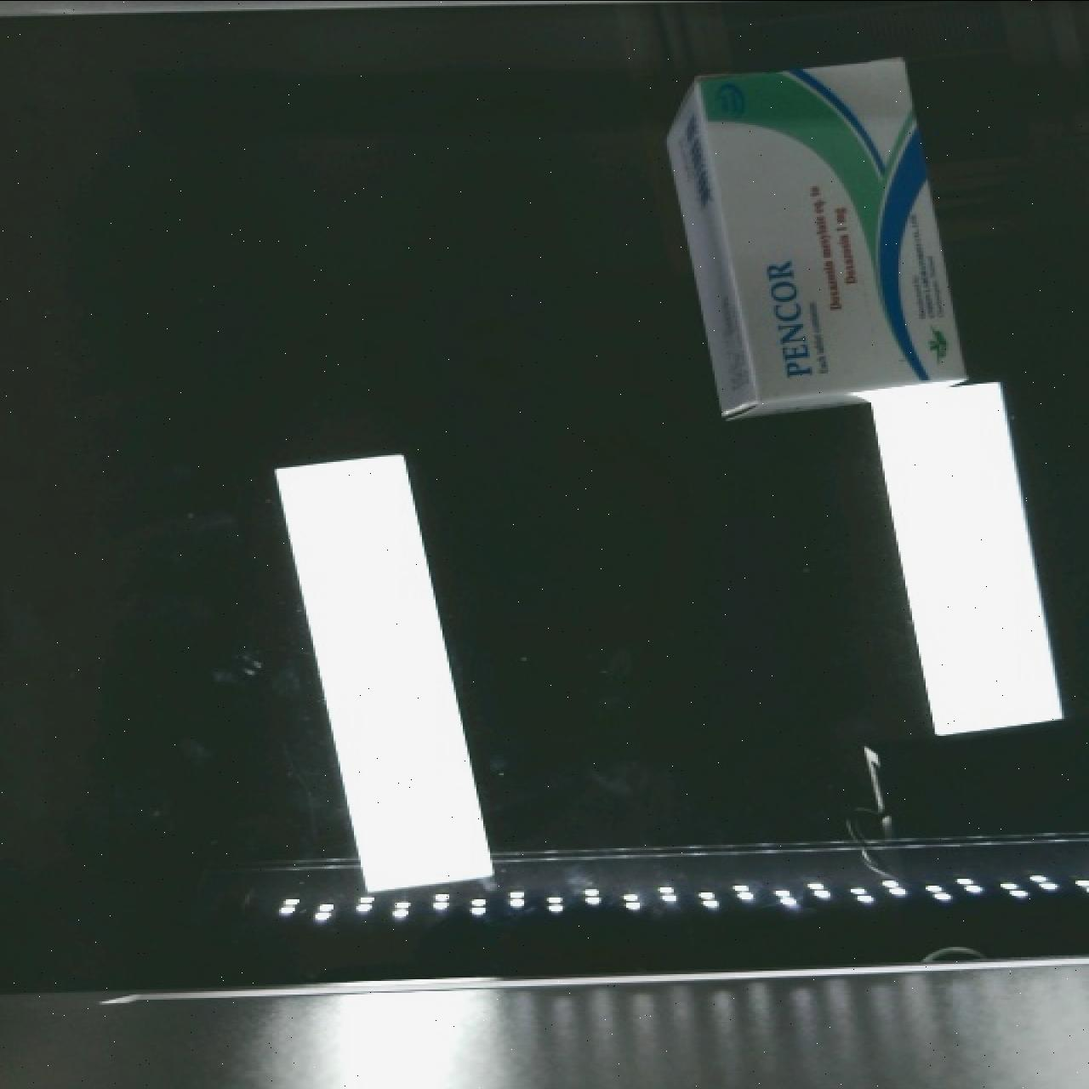medicine_label_obb: (731, 239, 829, 402)
